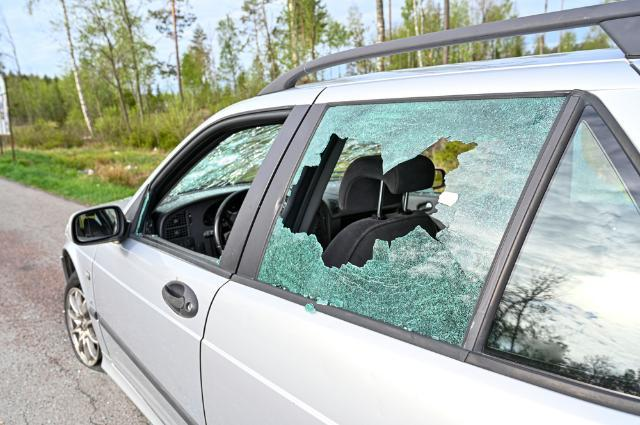glass shatter: (255, 97, 567, 347), (162, 124, 283, 201)
